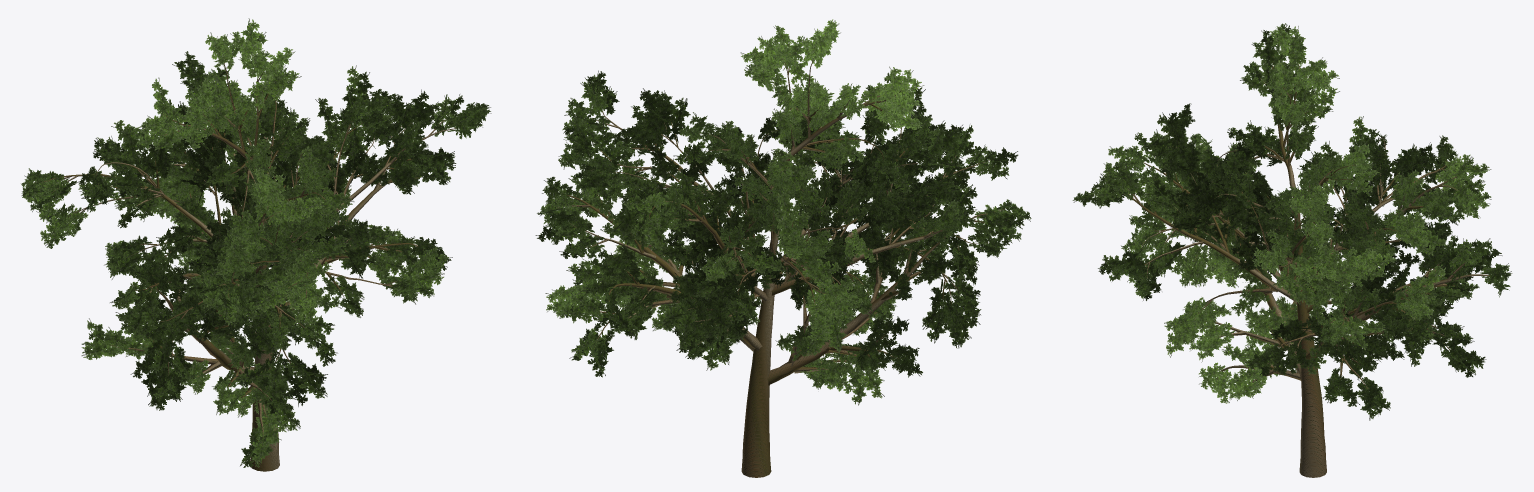
File: oak_lod0.glb
The picture shows the model from 3 angles, left to right: view 1: azimuth 30°, elevation 25°; view 2: azimuth 150°, elevation 25°; view 3: azimuth 270°, elevation 25°; orthographic projection. The views are drawn at different scales.
Visible parts, largest first — view 1: leaves, bark; view 2: leaves, bark; view 3: leaves, bark.
Part boxes in pixels (x1,y1,x2,y2): leaves: (21,18,491,467); bark: (33,55,455,471); leaves: (535,19,1031,405); bark: (557,44,1005,477); leaves: (1072,23,1512,420); bark: (1124,46,1489,477).
Bounding box in the file's own units: 17.25 × 18 × 17.41.
Materials: 2 (2 with a texture image).
